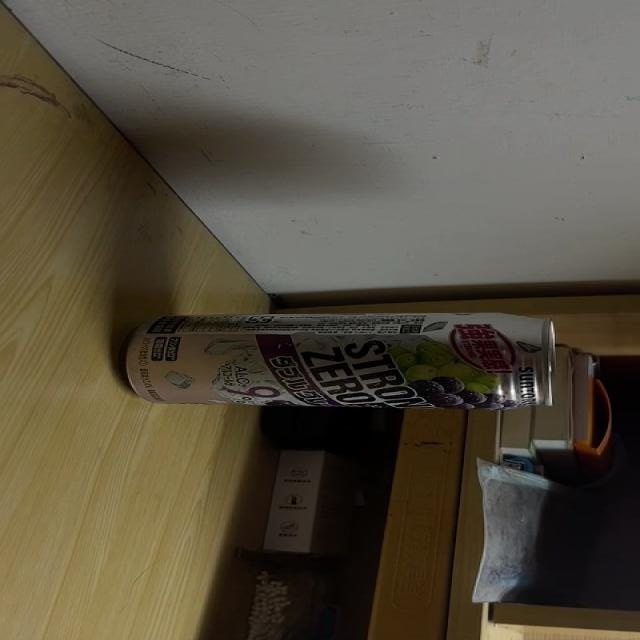Liquor: (124, 312, 558, 408)
